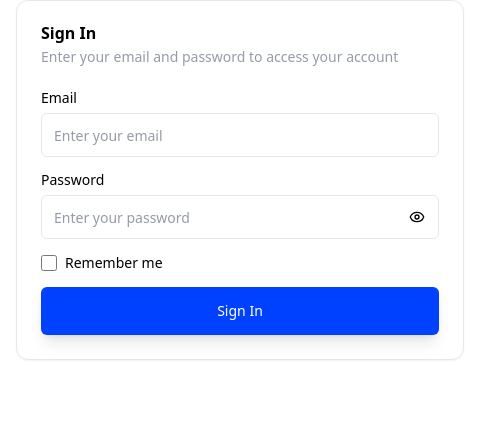
Test case: LoginForm › should show validation error for short password
Type "123" into the password field with placeholder "Enter your password" at (240, 217), box left=41, top=195, right=439, bottom=239
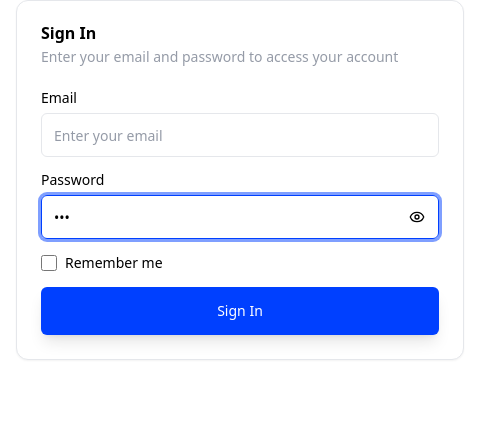
Click the button "Sign In" at (240, 311), box left=41, top=287, right=439, bottom=335
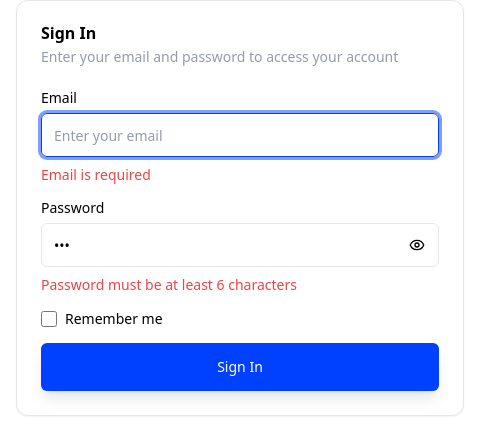
Result: the text "Password must be at least 6 characters" is shown at left=41, top=275, right=297, bottom=294
